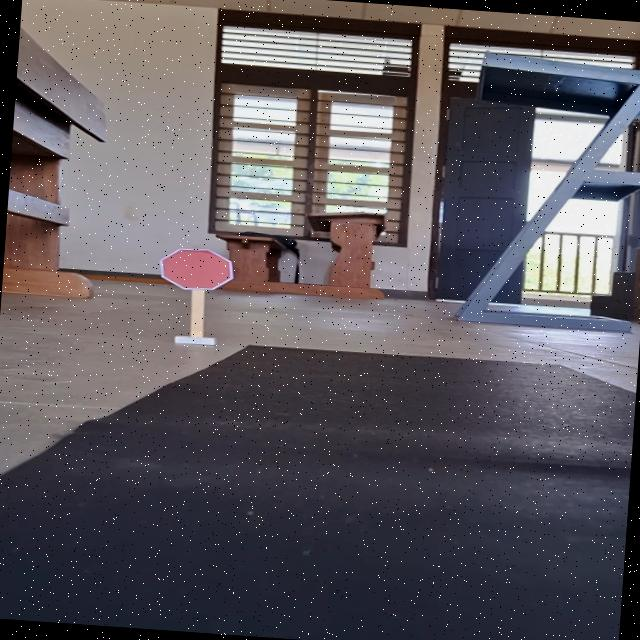Stop: (157, 246, 237, 294)
